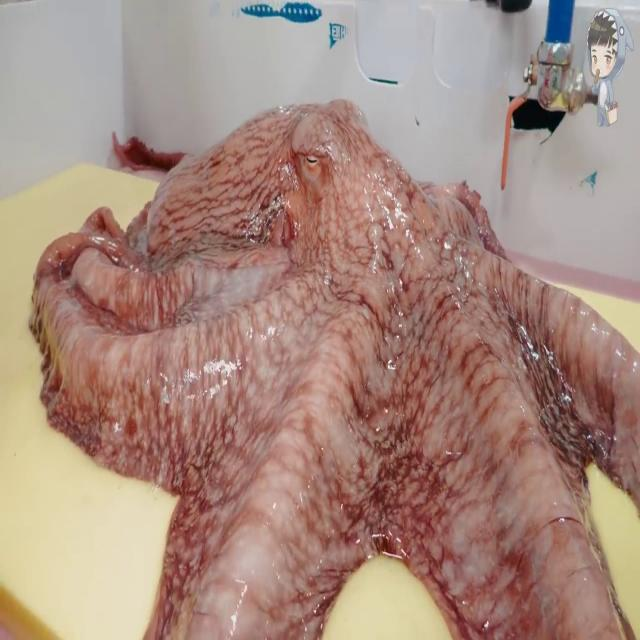octopus: (28, 87, 640, 640)
